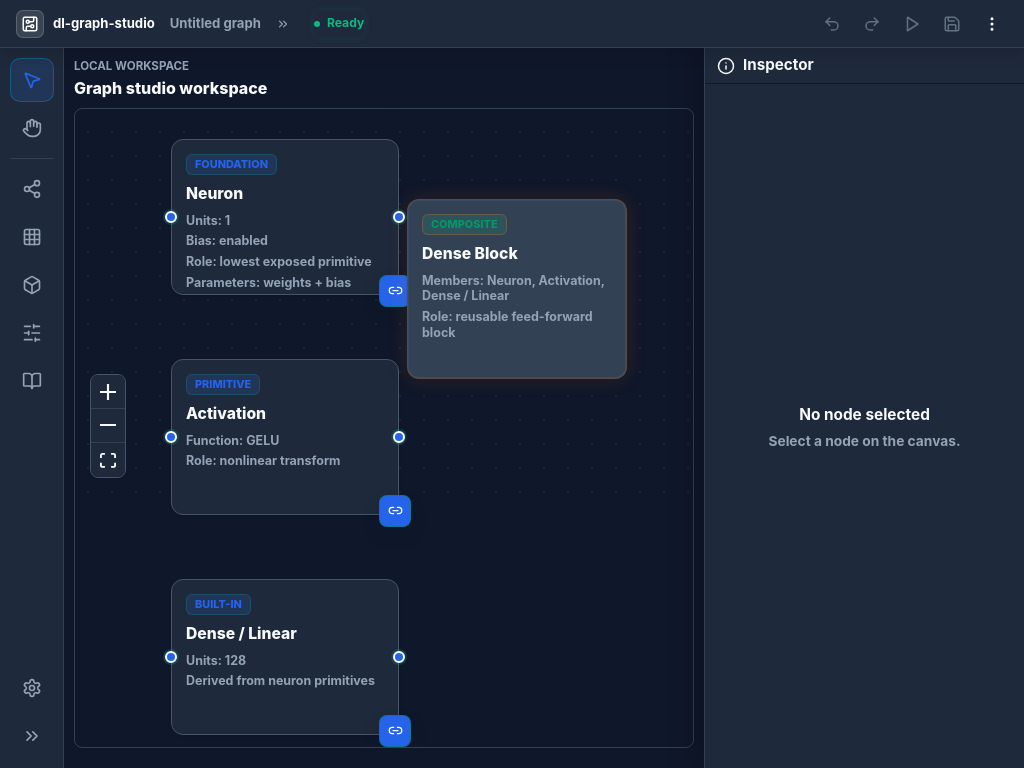
App shell › resets the project from the project actions menu
The image size is (1024, 768).
(page scrolled)
Step 1. Click the button with aria-label "dense / linear primitive node" → click(285, 657), box [171,579,399,735]
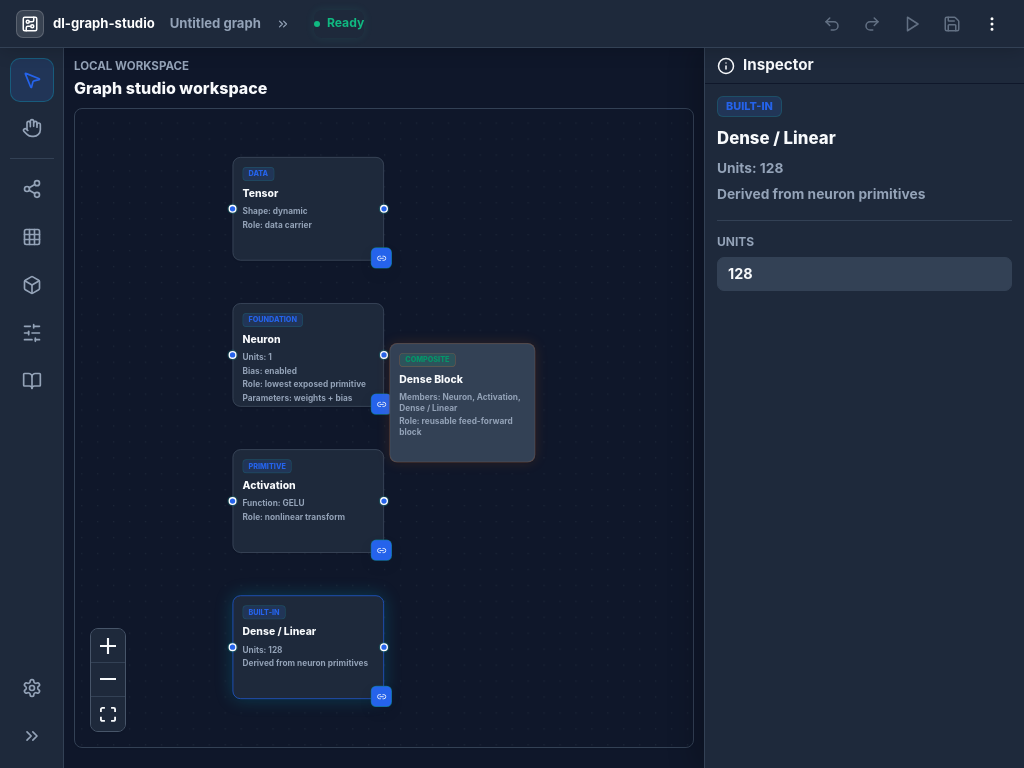
Step 2. Replace the text in the number field labelled "Units" with "384" → (864, 274), box [717,257,1012,291]
Step 3. Click the button named "start connection from tensor" → click(381, 258), box [371,247,392,268]
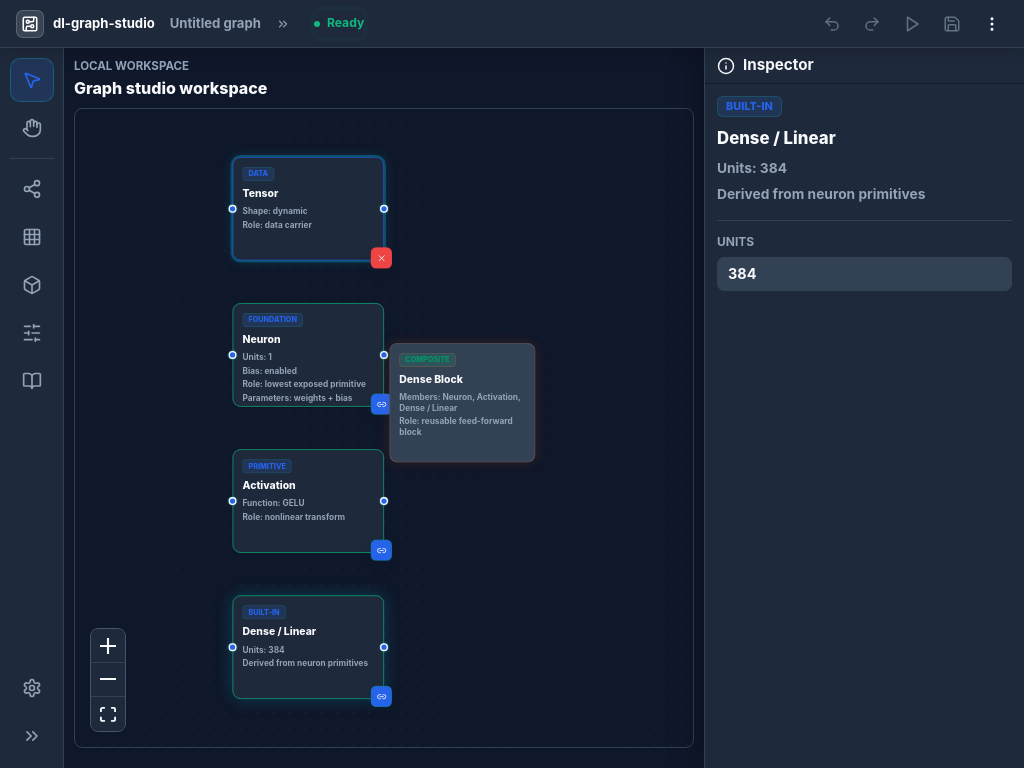
Step 4. Click the button named "connect tensor to neuron" → click(381, 404), box [371,393,392,414]
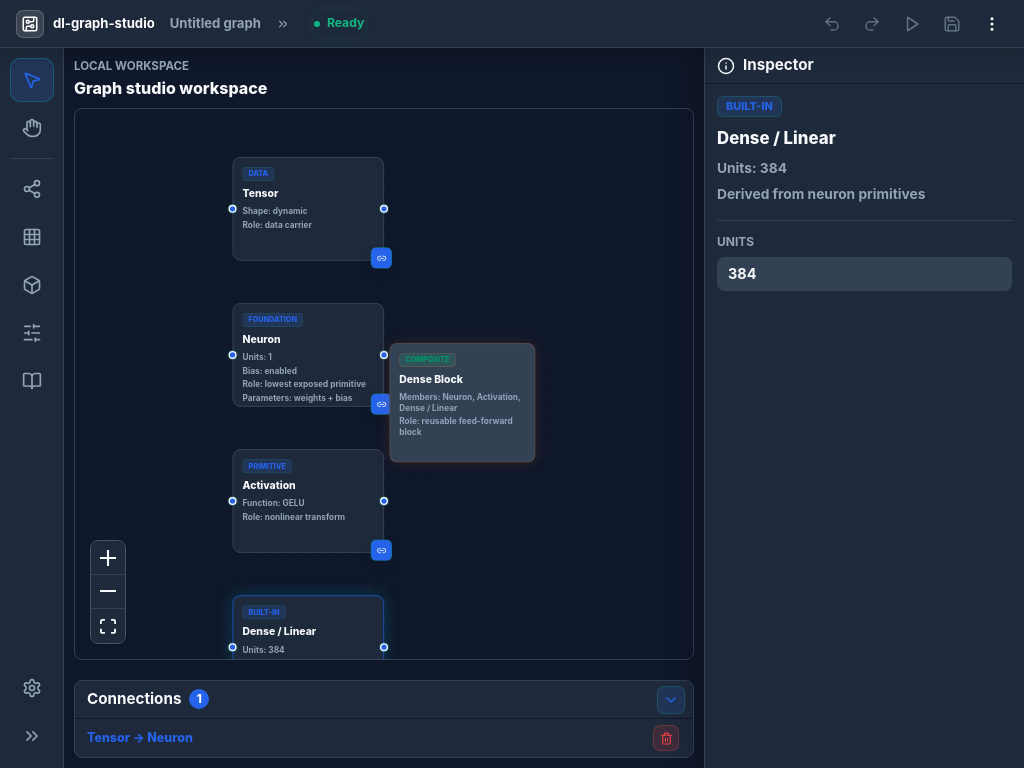
Step 5. Click the button named "project actions" → click(992, 24), box [976,8,1008,40]
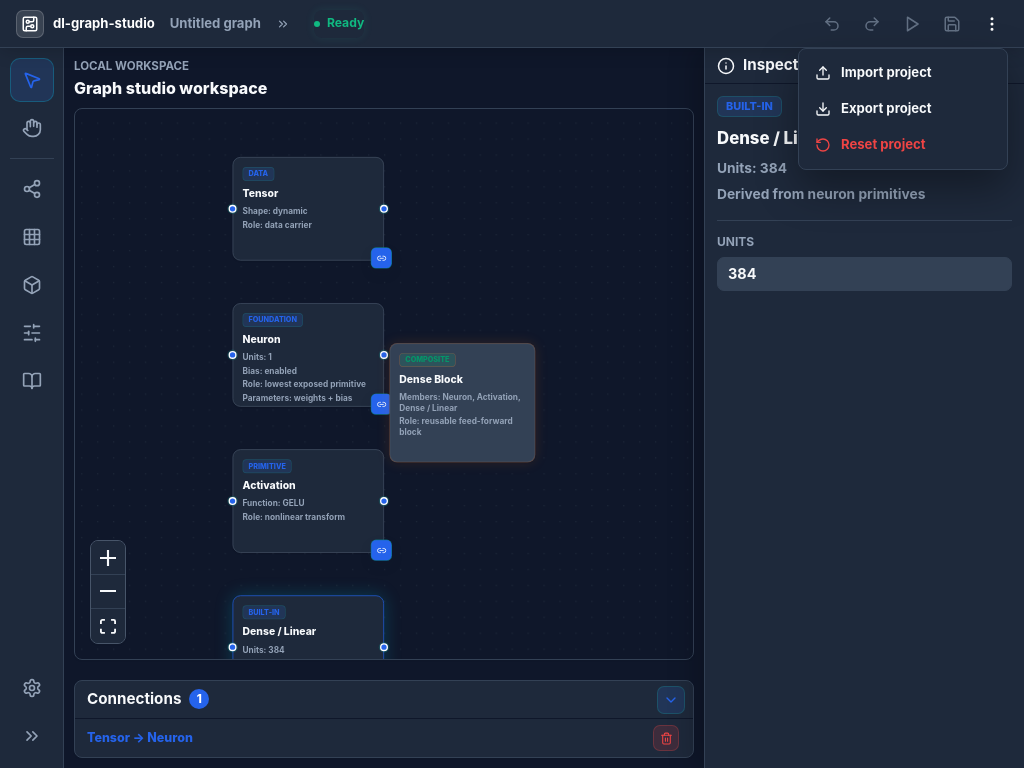
Step 6. Click the menu item "Reset project" → click(870, 145), box [815,136,926,153]
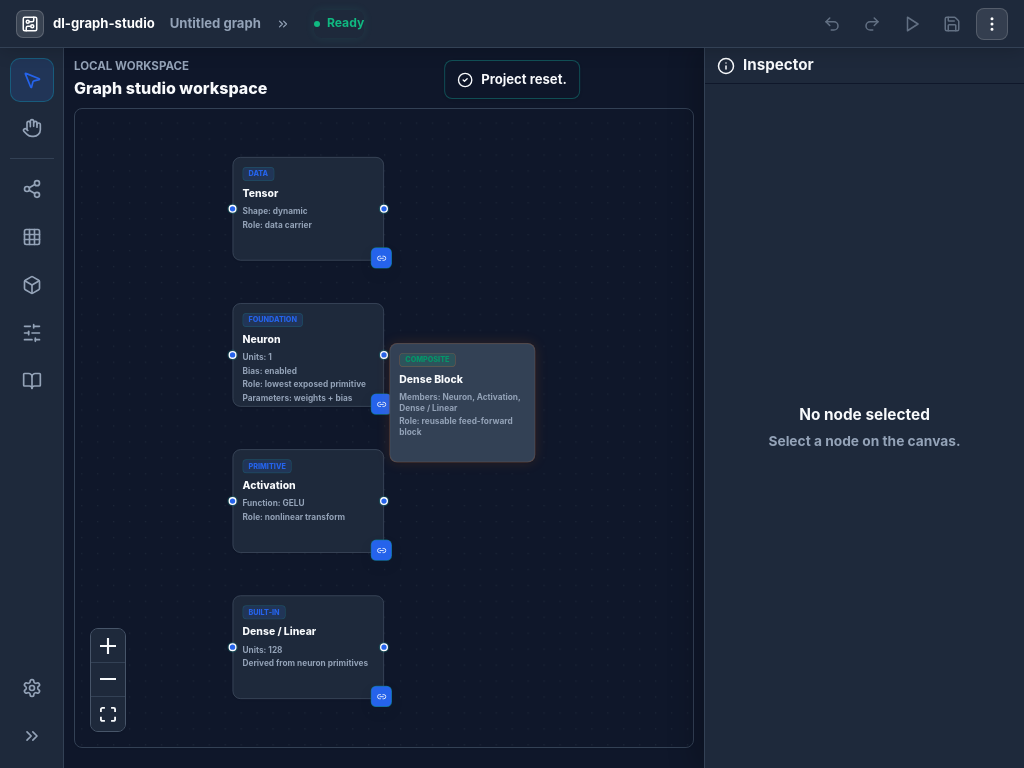
Expected: the text "Ready" is shown, [327,14,364,33]
Expected: the message shows "Project reset", [481,71,567,87]
Step 7. Click the button with aria-label "dense / linear primitive node" → click(308, 647), box [233,595,384,699]
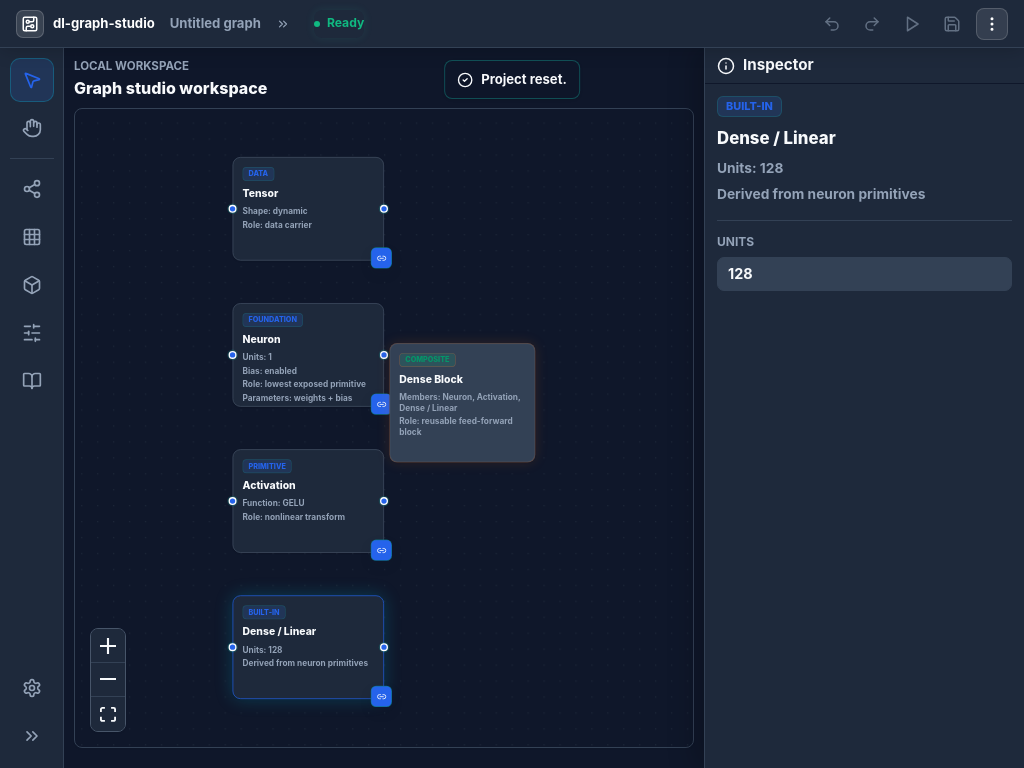
Expected: the number field labelled "Units" holds "128", [717,257,1012,291]
